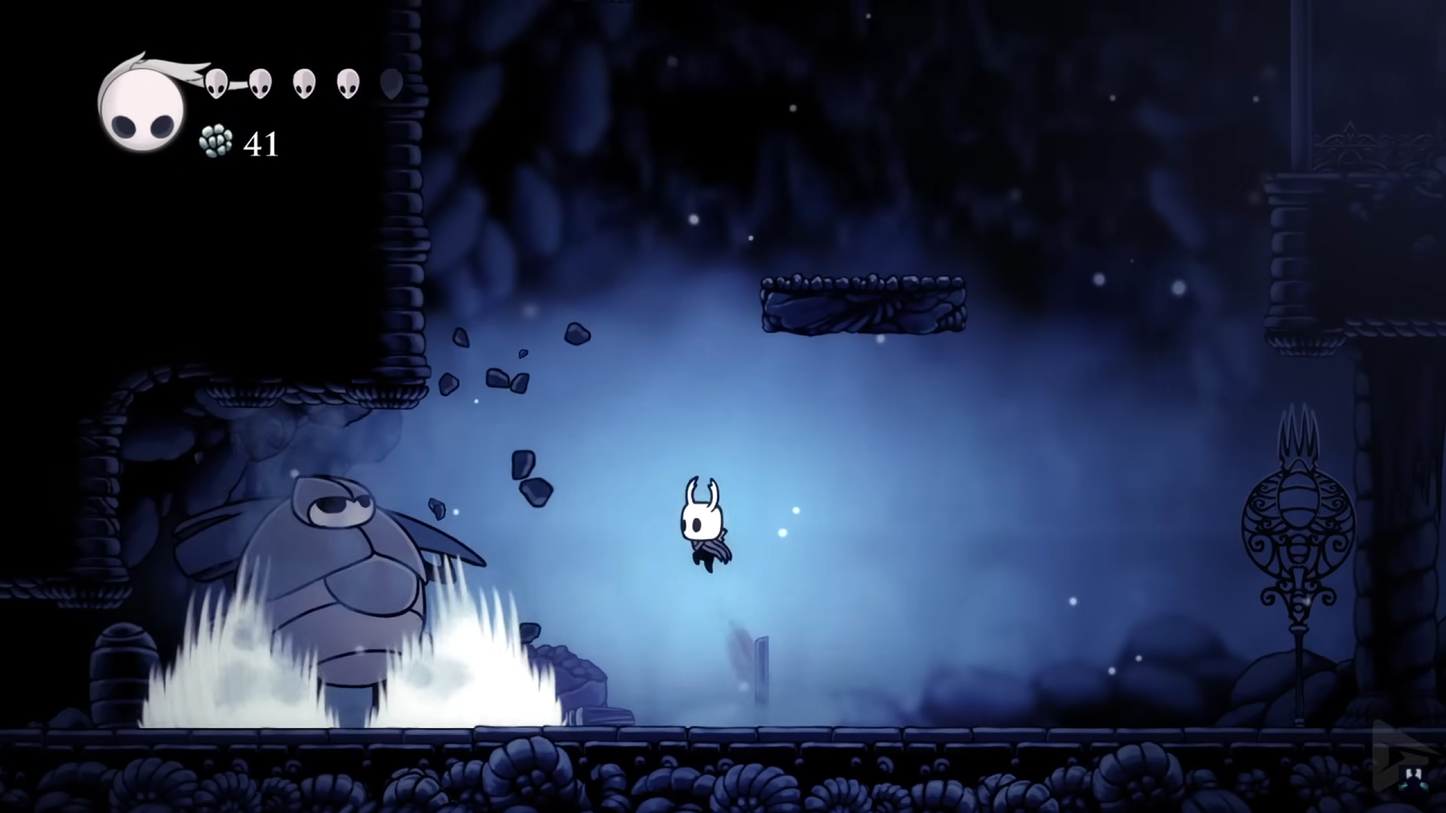HK: (680, 472, 733, 581)
